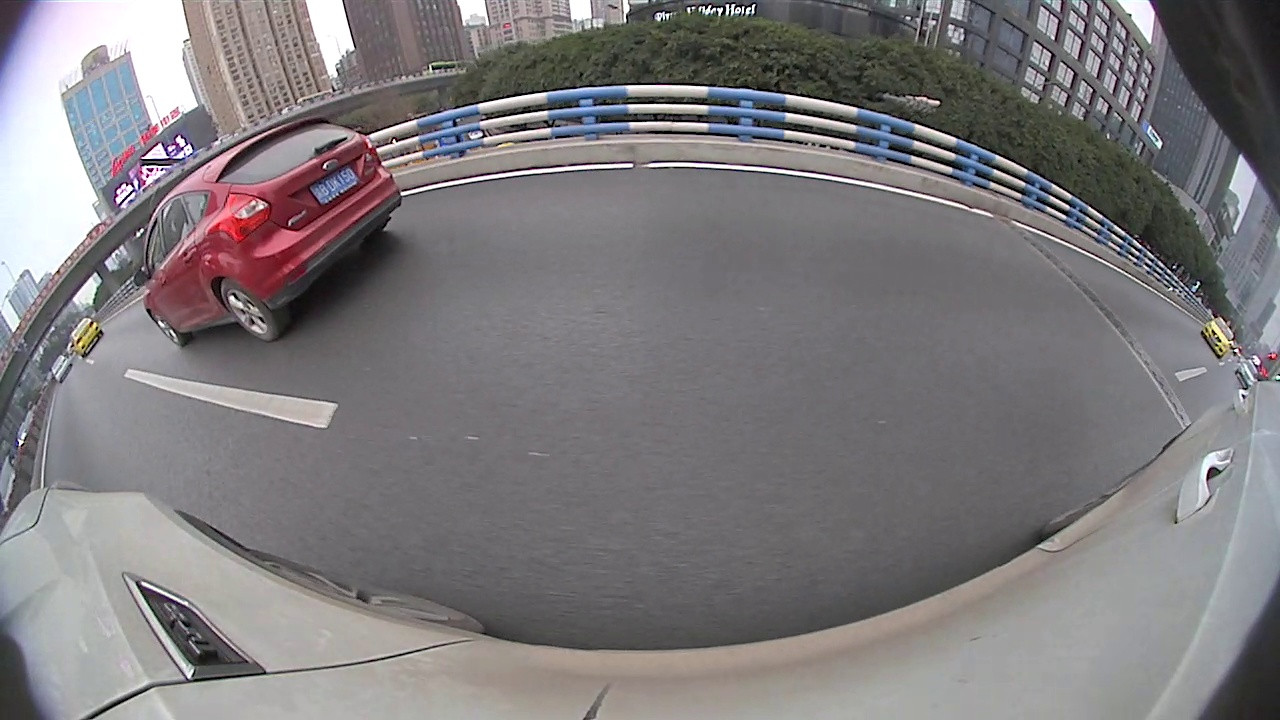car: (801, 127, 1046, 271), (1, 318, 163, 509), (1022, 204, 1173, 321), (613, 128, 744, 230), (436, 147, 561, 228), (1202, 320, 1278, 420), (749, 143, 838, 200), (547, 155, 579, 195), (573, 160, 599, 188)
front: (803, 183, 825, 219)
person: (1204, 280, 1221, 334), (1179, 258, 1192, 310), (1159, 249, 1172, 277)
rear: (891, 201, 935, 256), (1084, 267, 1119, 308), (526, 184, 539, 216), (775, 174, 790, 201)
